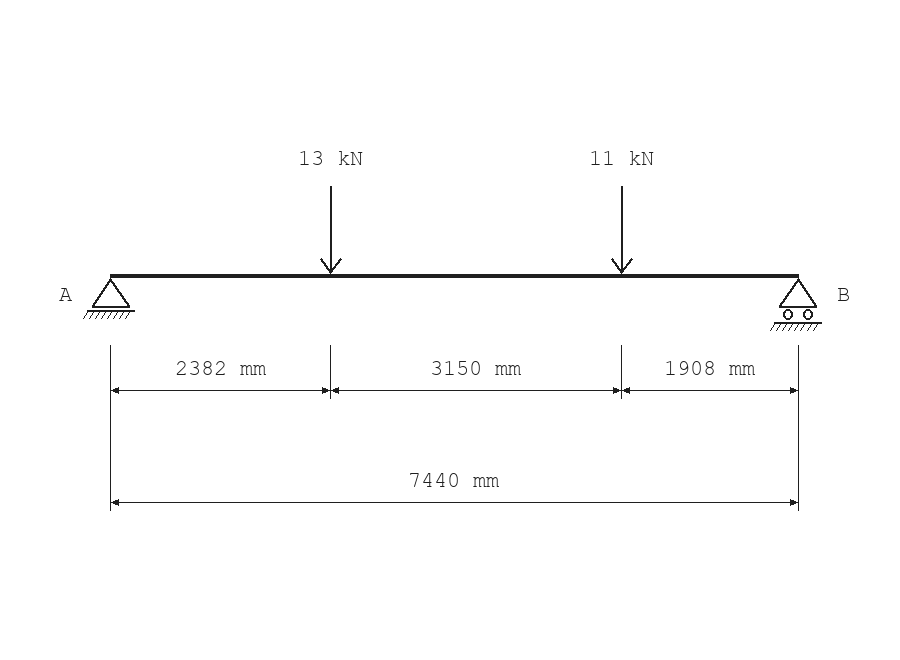pin_support: (83, 278, 135, 319)
point_load: (320, 186, 342, 274), (611, 186, 633, 274)
roller_support: (770, 278, 822, 331)
